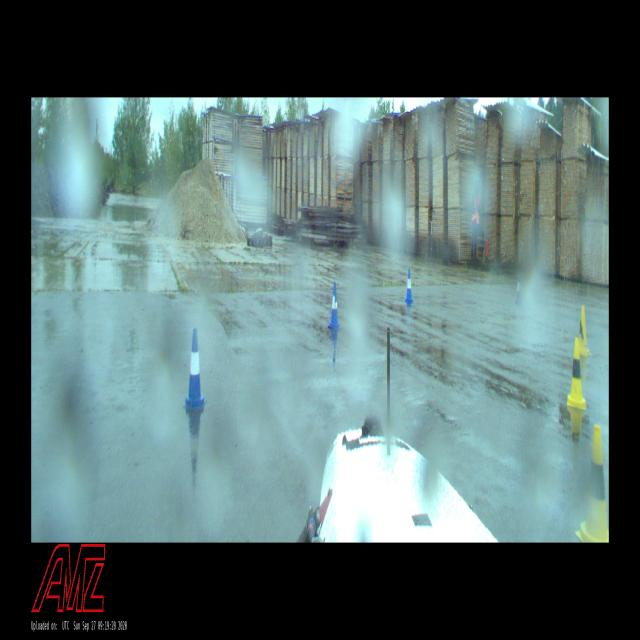blue_cone: (184, 329, 206, 410), (328, 282, 341, 329), (404, 268, 414, 304), (514, 274, 522, 305)
yellow_cone: (575, 426, 609, 542), (567, 338, 586, 409), (579, 306, 591, 356)
